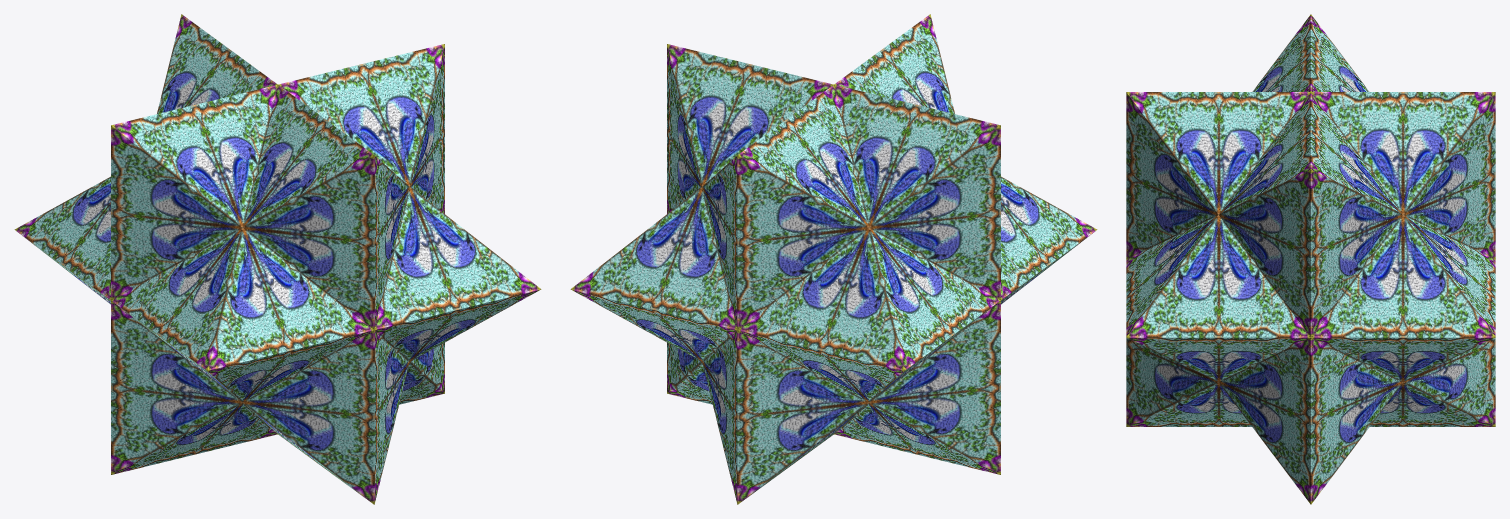
File: Escher3.obj
3 views of the same model, side by side, from view 1: azimuth 30°, elevation 25°; view 2: azimuth 150°, elevation 25°; view 3: azimuth 270°, elevation 25° (orthographic). The views are drawn at different scales.
Size of the model in its own units: 2 by 2 by 2.
Materials: 1 (1 with a texture image).
